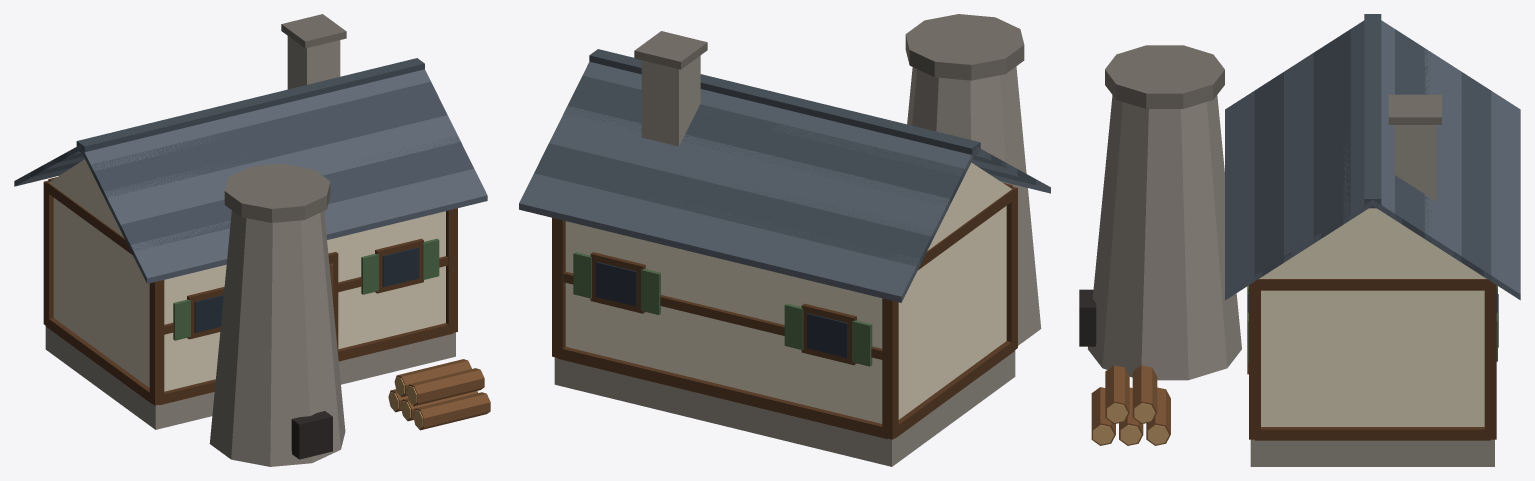
File: smelter.glb
3 views of the same model, side by side, from view 1: azimuth 30°, elevation 25°; view 2: azimuth 150°, elevation 25°; view 3: azimuth 270°, elevation 25° (orthographic). The views are drawn at different scales.
Parts seen in each view (by area): view 1: smelter; view 2: smelter; view 3: smelter.
Boxes of the visible parts, box(x1,y1,x2,y2) form: smelter: box(14, 14, 490, 466); smelter: box(519, 14, 1050, 466); smelter: box(1079, 14, 1520, 466).
Size of the model in its own units: 5.1 by 4.17 by 5.15.
